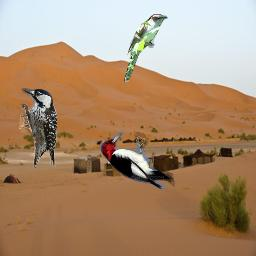Cuckoo: (124, 14, 168, 82)
Woodpecker: (92, 129, 177, 193), (18, 88, 57, 169)
